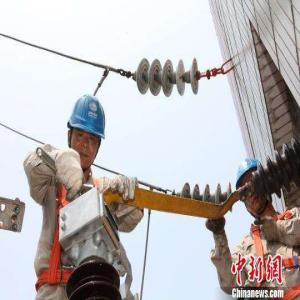blue: (67, 94, 106, 170), (236, 158, 273, 222)
